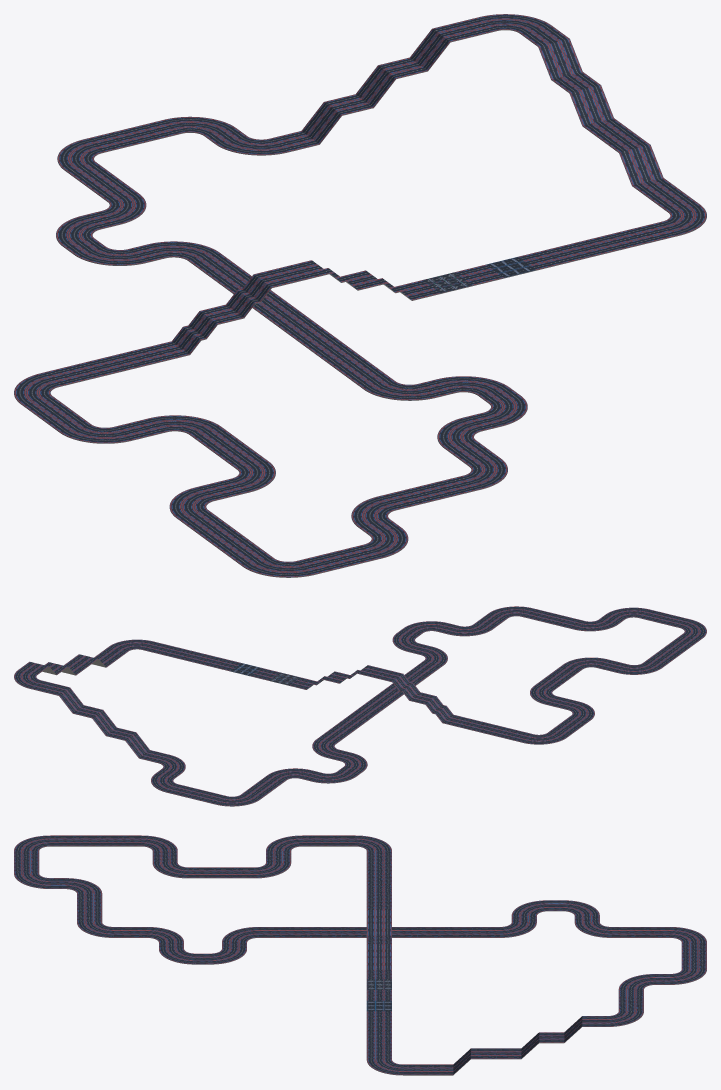
Rendered from pista_inferior.obj.
3 renders of one model, top to bottom at view 1: azimuth 30°, elevation 25°; view 2: azimuth 150°, elevation 25°; view 3: azimuth 270°, elevation 25°, orthographic. The views are drawn at different scales.
Parts seen in each view (by area): view 1: PistaCompleta; view 2: PistaCompleta; view 3: PistaCompleta.
Boxes of the visible parts, x1,y1,x2,y2 form: PistaCompleta: (14,14,706,577); PistaCompleta: (14,606,706,806); PistaCompleta: (14,835,706,1075).
Bounding box in the file's own units: 2700 × 257 × 3300.
5 materials, 4 textured.
